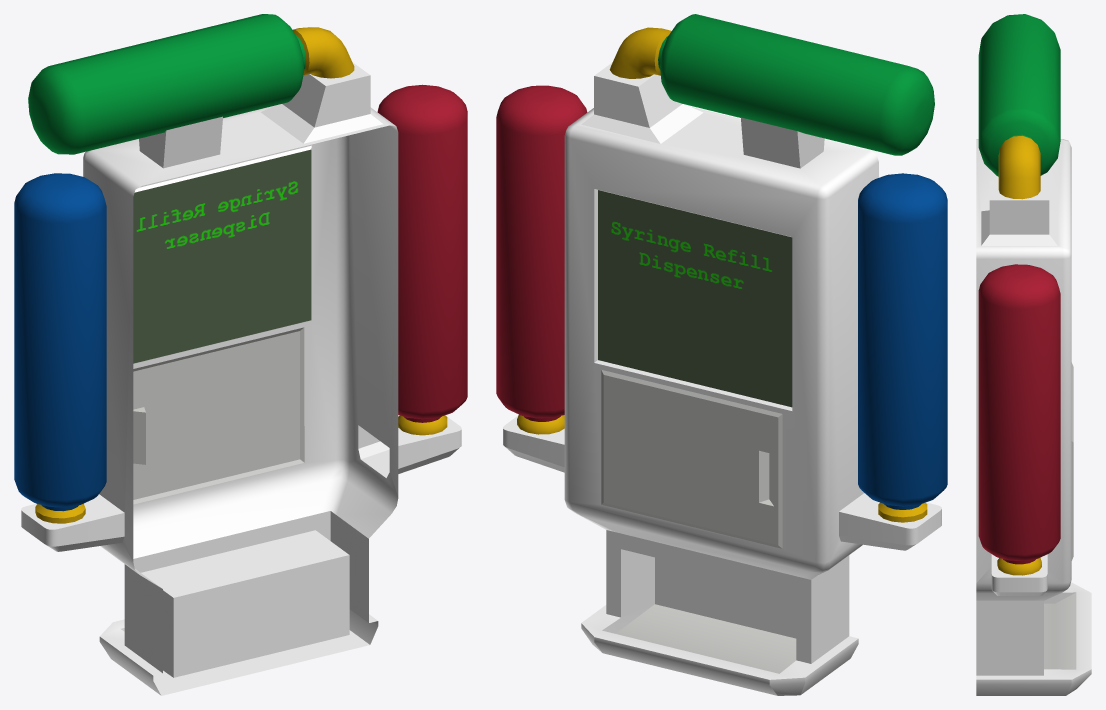
File: SM_SyringeDispenser.fbx
3 views of the same model, side by side, from view 1: azimuth 30°, elevation 25°; view 2: azimuth 150°, elevation 25°; view 3: azimuth 270°, elevation 25° (orthographic). The views are drawn at different scales.
Parts seen in each view (by area): view 1: SM_SyringeDispenser; view 2: SM_SyringeDispenser; view 3: SM_SyringeDispenser.
Part boxes in pixels (left/top/right/bottom): SM_SyringeDispenser: left=14, top=14, right=467, bottom=695; SM_SyringeDispenser: left=496, top=14, right=947, bottom=695; SM_SyringeDispenser: left=976, top=14, right=1091, bottom=695.
Size of the model in its own units: 90.02 by 122 by 22.96.
